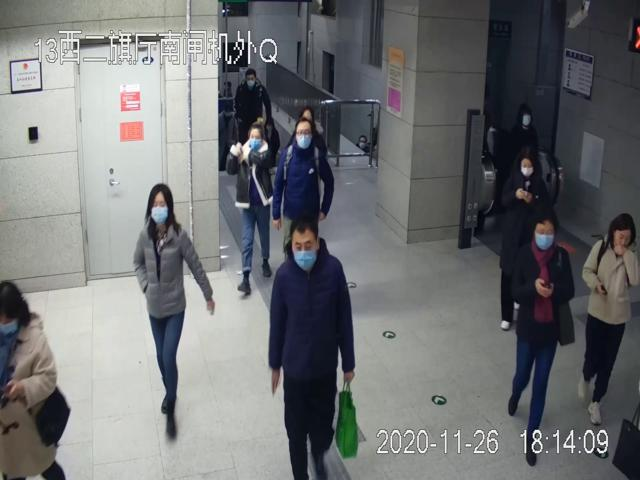person: (268, 217, 354, 480), (133, 184, 215, 440), (508, 215, 574, 467), (579, 212, 638, 424), (273, 121, 334, 260), (499, 154, 548, 326), (226, 118, 273, 293), (233, 66, 272, 142)
